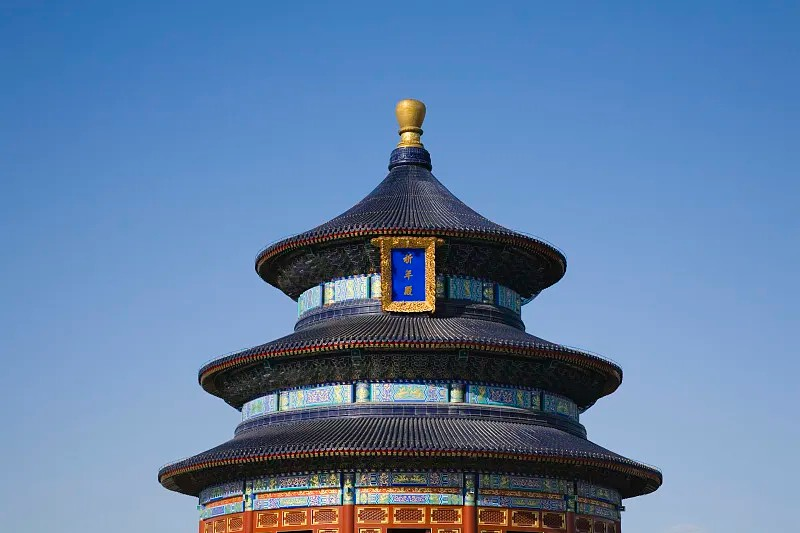Heaven: (157, 99, 664, 533)
